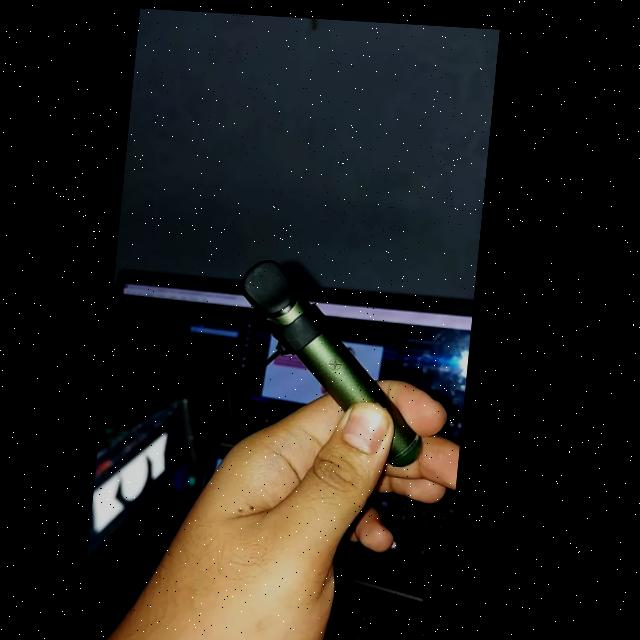vape: (234, 254, 447, 464)
